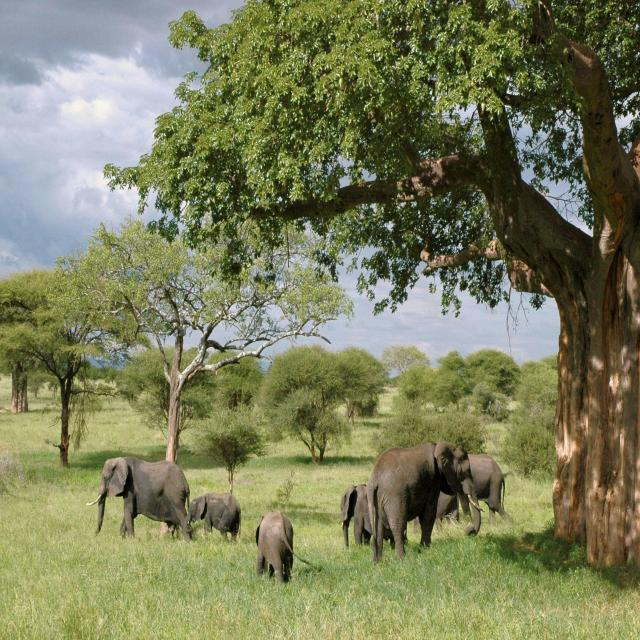Elephant: (368, 440, 486, 566), (86, 456, 192, 545), (433, 454, 512, 527), (340, 484, 409, 550), (255, 511, 311, 585), (184, 492, 241, 545)
